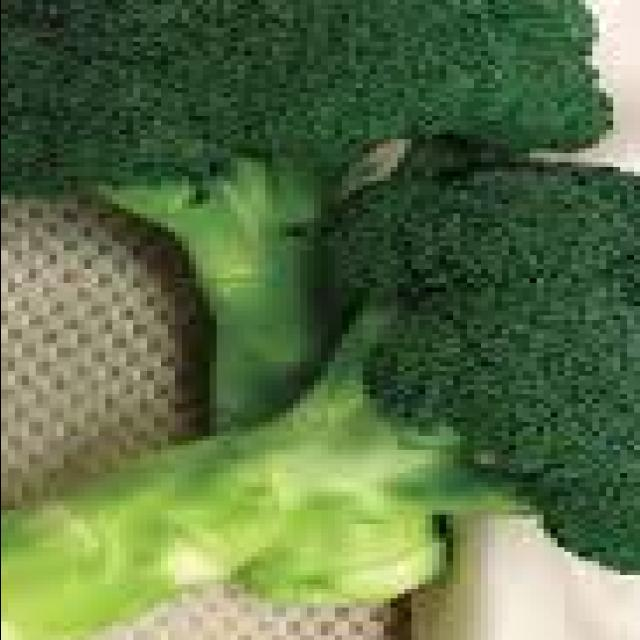broccoli: (0, 139, 640, 640)
